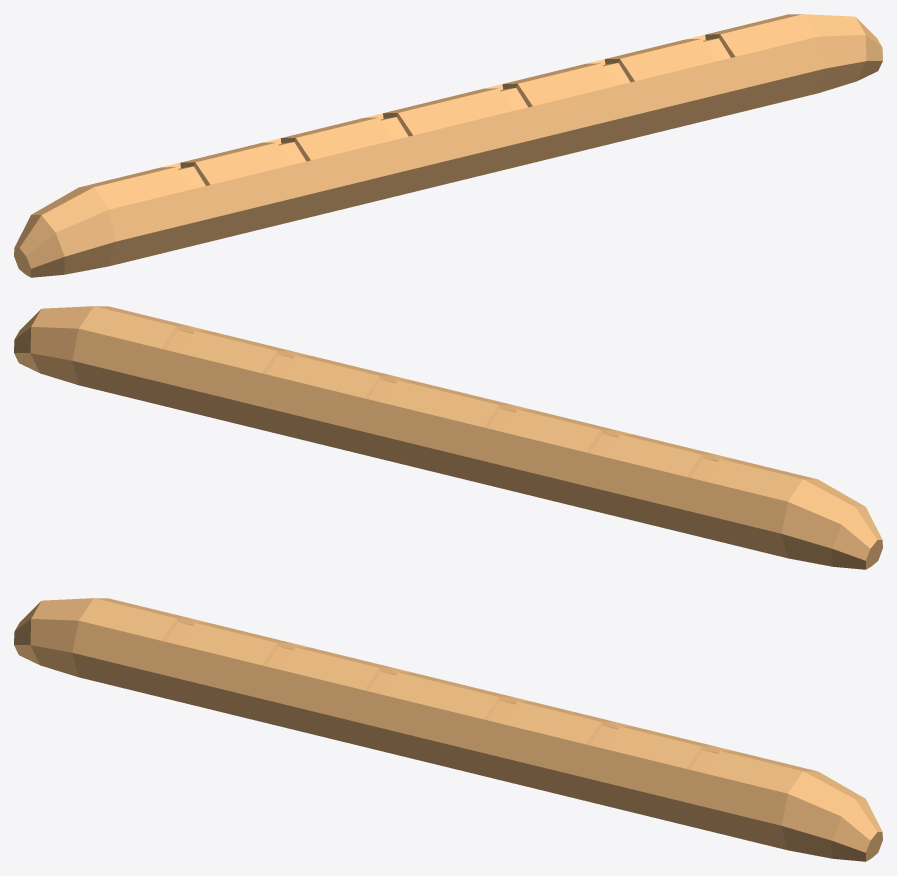
The model's file is Bagetfbx.fbx.
The picture shows the model from 3 angles, top to bottom: view 1: azimuth 30°, elevation 25°; view 2: azimuth 150°, elevation 25°; view 3: azimuth 330°, elevation 25°; orthographic projection.
Visible parts, largest first — view 1: Cylinder; view 2: Cylinder; view 3: Cylinder.
Part boxes in pixels (box(x1,y1,x2,y2)): Cylinder: box(14, 14, 882, 277); Cylinder: box(14, 306, 882, 569); Cylinder: box(14, 598, 882, 861).
Size of the model in its own units: 125 by 9.75 by 10.8.
